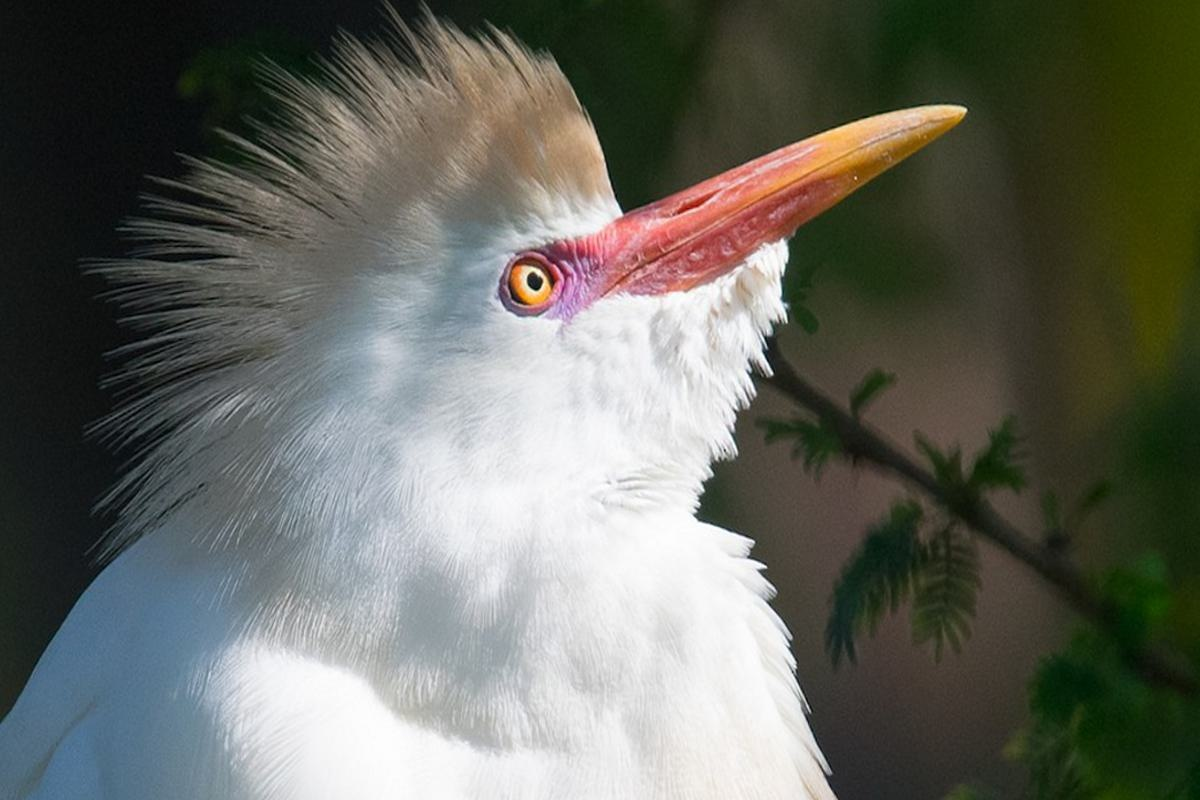egret: (1, 17, 1004, 800)
